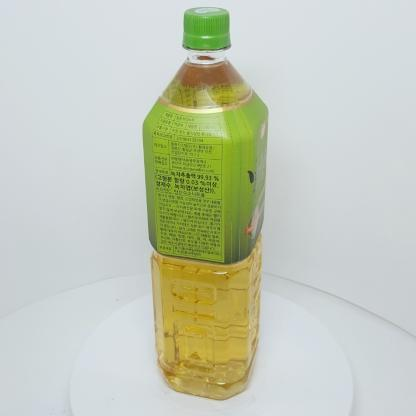------1500ML: (142, 7, 269, 400)
